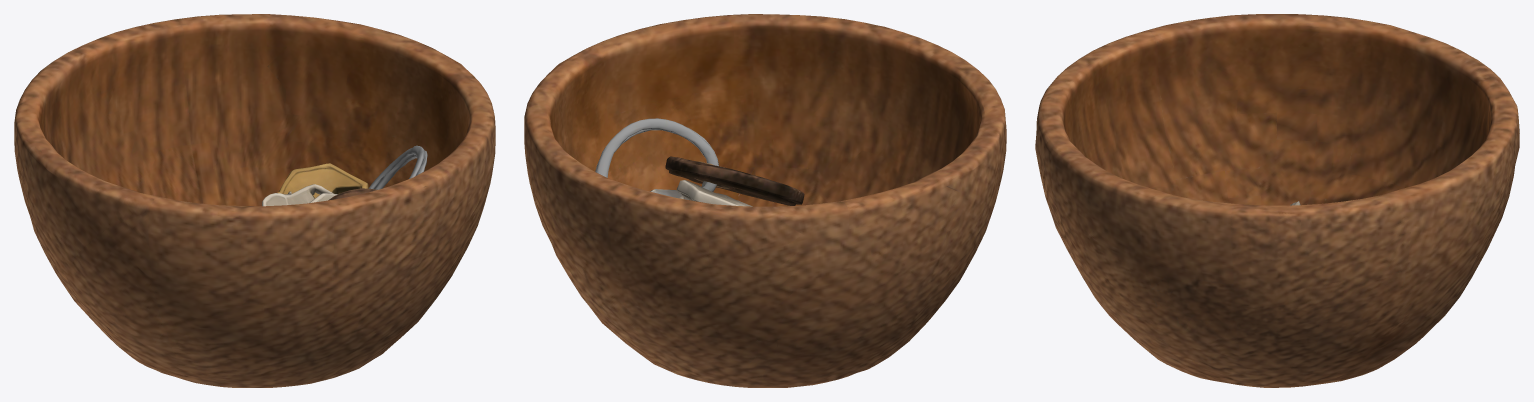
The model's file is desktop.glb.
3 renders of one model, left to right at view 1: azimuth 30°, elevation 25°; view 2: azimuth 150°, elevation 25°; view 3: azimuth 270°, elevation 25°, orthographic.
Parts seen in each view (by area): view 1: keysbowl; view 2: keysbowl; view 3: keysbowl.
Part boxes in pixels (x1=…): keysbowl: x1=14, y1=14, x2=495, y2=387; keysbowl: x1=524, y1=14, x2=1006, y2=387; keysbowl: x1=1035, y1=14, x2=1519, y2=387.
Size of the model in its own units: 0.16 by 0.0814 by 0.1609.
1 material, 1 textured.
